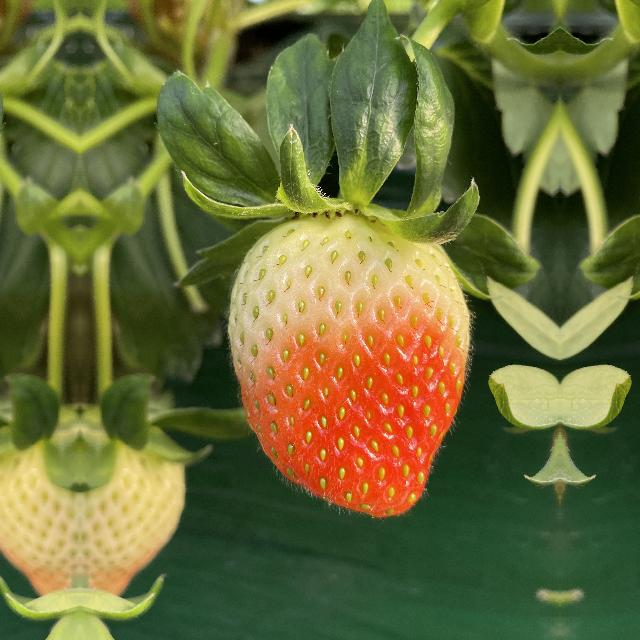Health_75: (201, 200, 484, 524)
